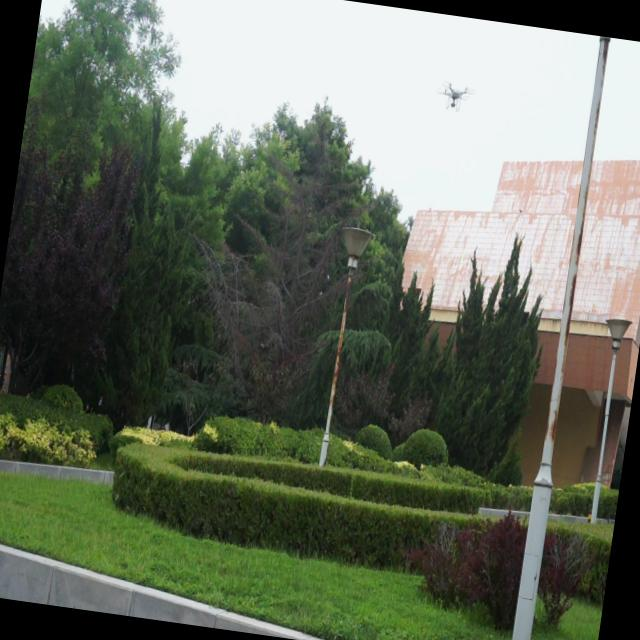drone: (432, 74, 478, 122)
